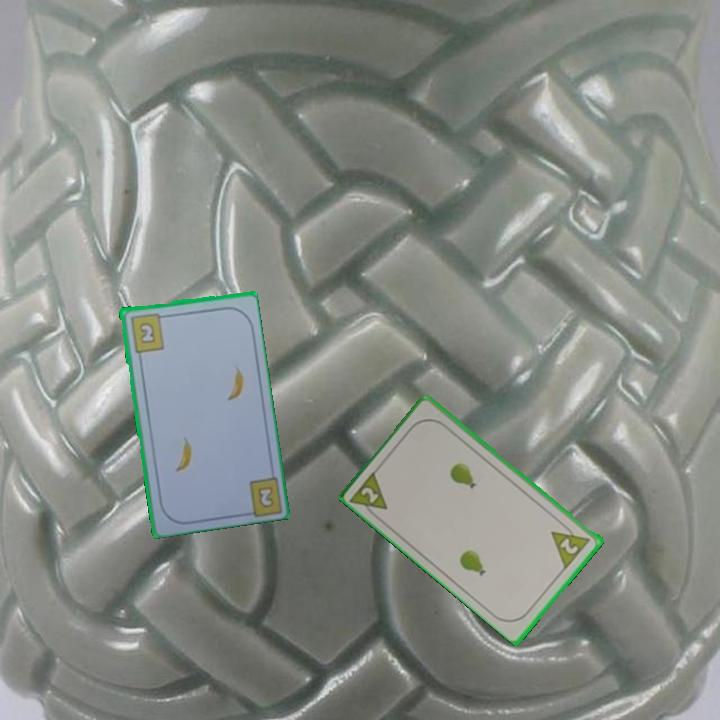2b: (126, 309, 169, 355), (256, 485, 274, 508)
2p: (347, 466, 391, 523), (548, 518, 594, 571)
